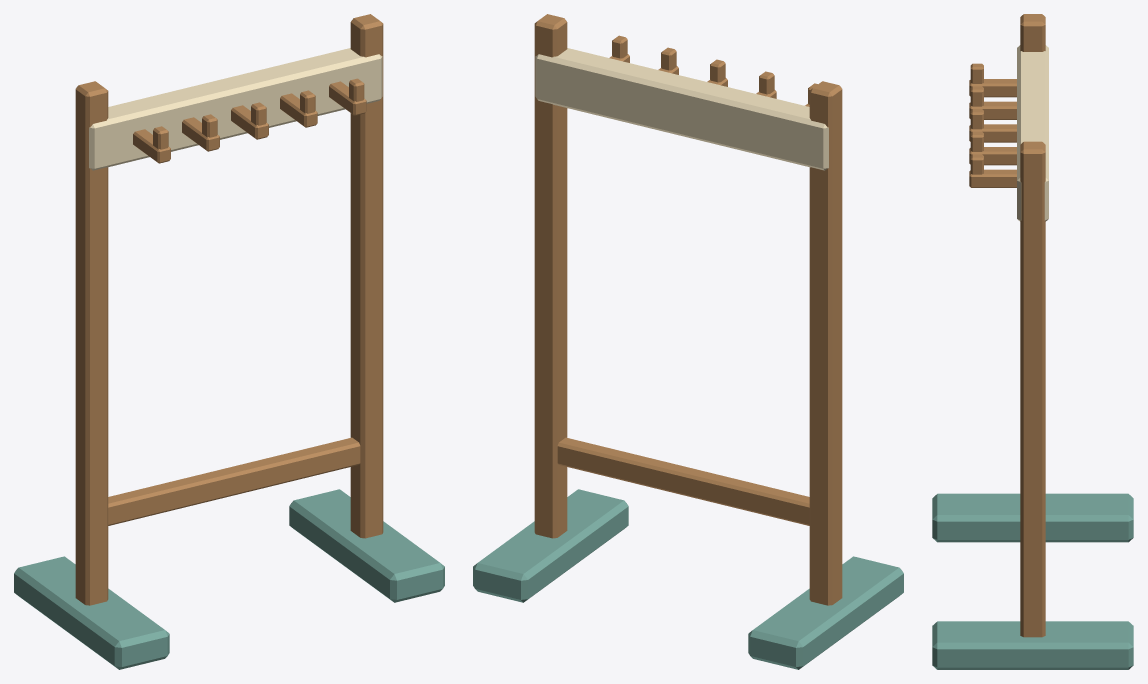
The picture shows the model from 3 angles, left to right: view 1: azimuth 30°, elevation 25°; view 2: azimuth 150°, elevation 25°; view 3: azimuth 270°, elevation 25°; orthographic projection. The views are drawn at different scales.
Parts seen in each view (by area): view 1: entryway-peg-rack-01; view 2: entryway-peg-rack-01; view 3: entryway-peg-rack-01.
Boxes of the visible parts, x1,y1,x2,y2 form: entryway-peg-rack-01: [14, 14, 444, 669]; entryway-peg-rack-01: [473, 14, 903, 669]; entryway-peg-rack-01: [932, 14, 1133, 669].
Size of the model in its own units: 1.08 by 1.69 by 0.6.
